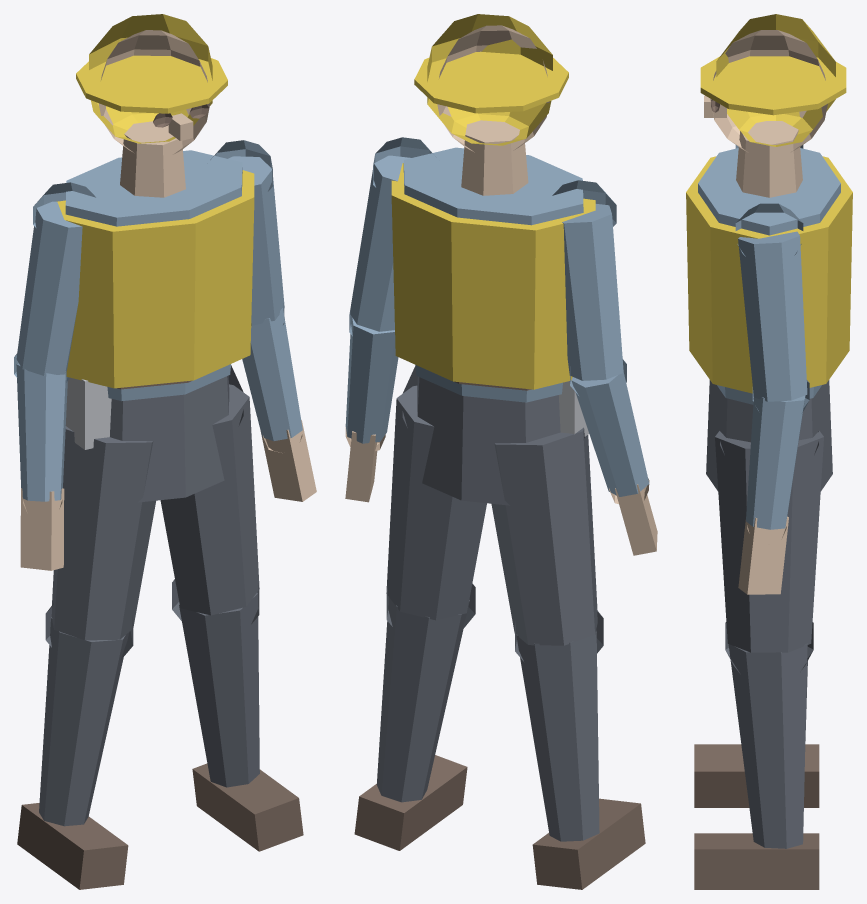
Rendered from low-poly-character-figures-builder-standing-41a26918.glb.
3 views of the same model, side by side, from view 1: azimuth 30°, elevation 25°; view 2: azimuth 150°, elevation 25°; view 3: azimuth 270°, elevation 25° (orthographic).
Parts seen in each view (by area): view 1: builder-standing; view 2: builder-standing; view 3: builder-standing.
Boxes of the visible parts, left/top/right/bottom form: builder-standing: left=14, top=14, right=316, bottom=889; builder-standing: left=345, top=14, right=657, bottom=889; builder-standing: left=686, top=14, right=852, bottom=889.
Size of the model in its own units: 0.6976 by 1.83 by 0.3373.
